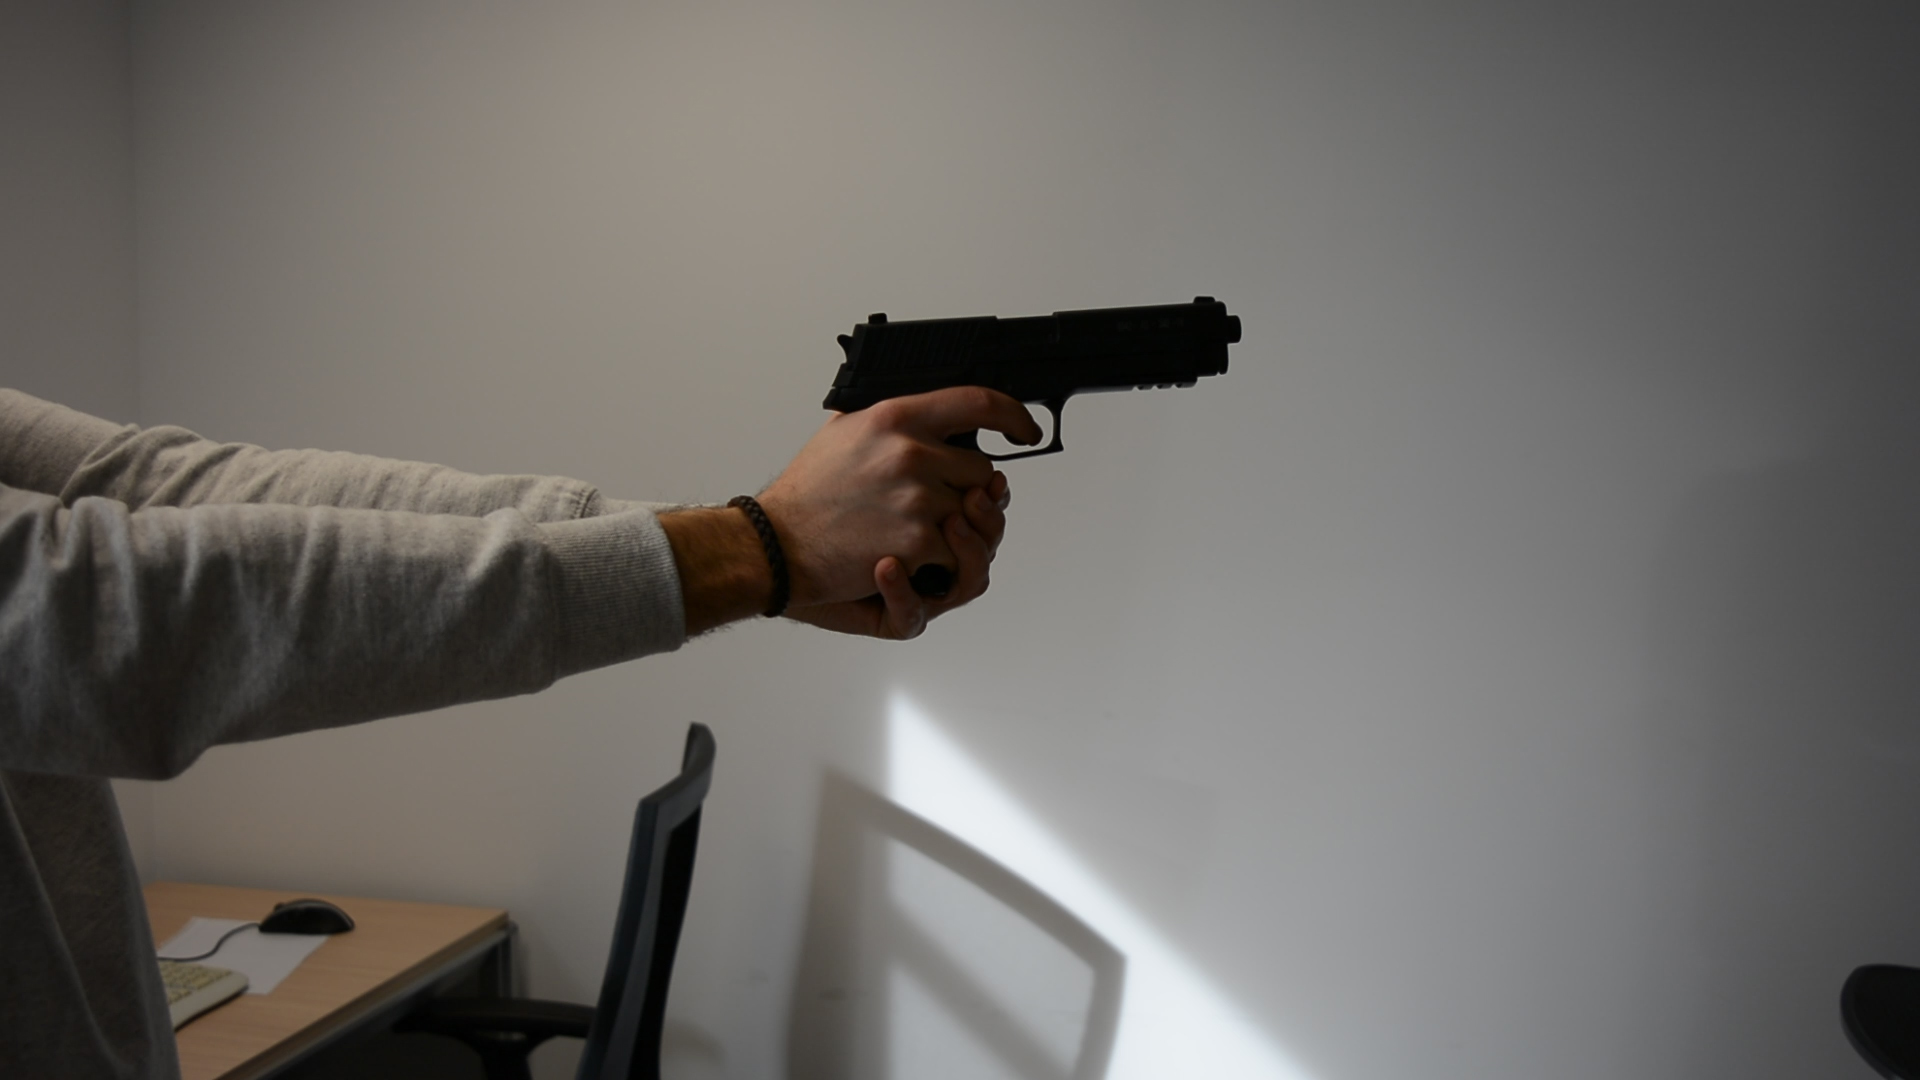pistol: (819, 291, 1246, 611)
